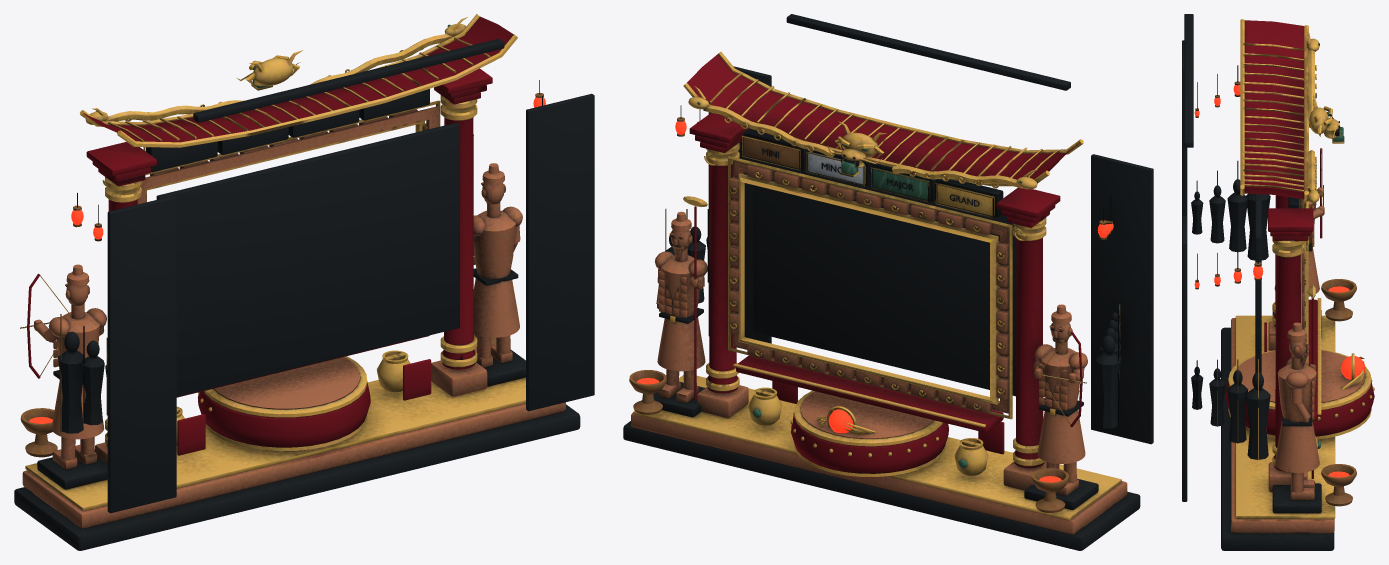
3 renders of one model, left to right at view 1: azimuth 30°, elevation 25°; view 2: azimuth 150°, elevation 25°; view 3: azimuth 270°, elevation 25°, orthographic. The views are drawn at different scales.
Visible parts, largest first — view 1: Charcoal_basalt, Fine_fired_terracotta, Imperial_metal, Deep_vermilion_lacquer; view 2: Charcoal_basalt, Imperial_metal, Deep_vermilion_lacquer, Fine_fired_terracotta, Imperial_jade, glow_red_lantern_pearl; view 3: Imperial_metal, Charcoal_basalt, Deep_vermilion_lacquer, Fine_fired_terracotta, glow_red_lantern_pearl.
Boxes of the visible parts, x1,y1,x2,y2 form: Charcoal_basalt: [14, 38, 594, 550]; Fine_fired_terracotta: [22, 106, 565, 528]; Imperial_metal: [20, 14, 543, 510]; Deep_vermilion_lacquer: [27, 16, 513, 455]; Charcoal_basalt: [623, 14, 1153, 550]; Imperial_metal: [629, 51, 1121, 520]; Deep_vermilion_lacquer: [687, 54, 1082, 477]; Fine_fired_terracotta: [631, 161, 1127, 534]; Imperial_jade: [697, 102, 1022, 467]; glow_red_lantern_pearl: [637, 121, 1113, 482]; Imperial_metal: [1195, 19, 1374, 518]; Charcoal_basalt: [1182, 14, 1339, 550]; Deep_vermilion_lacquer: [1225, 20, 1374, 478]; Fine_fired_terracotta: [1231, 187, 1365, 533]; glow_red_lantern_pearl: [1194, 85, 1365, 477].
Bounding box in the file's own units: 12.8 × 10.4 × 4.93.
6 materials, 5 textured.
